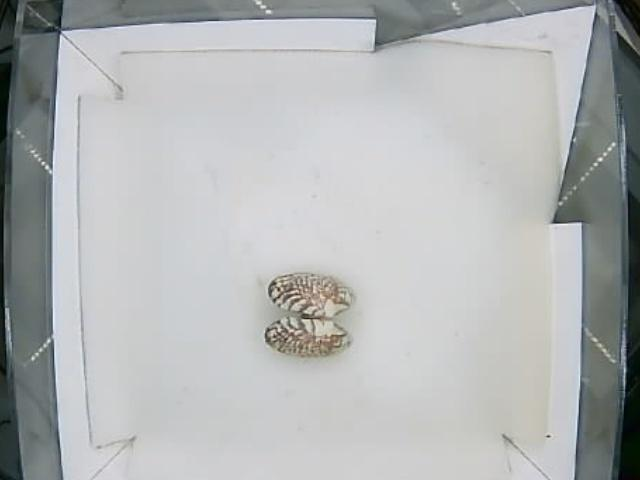Shell: (266, 274, 356, 358)
